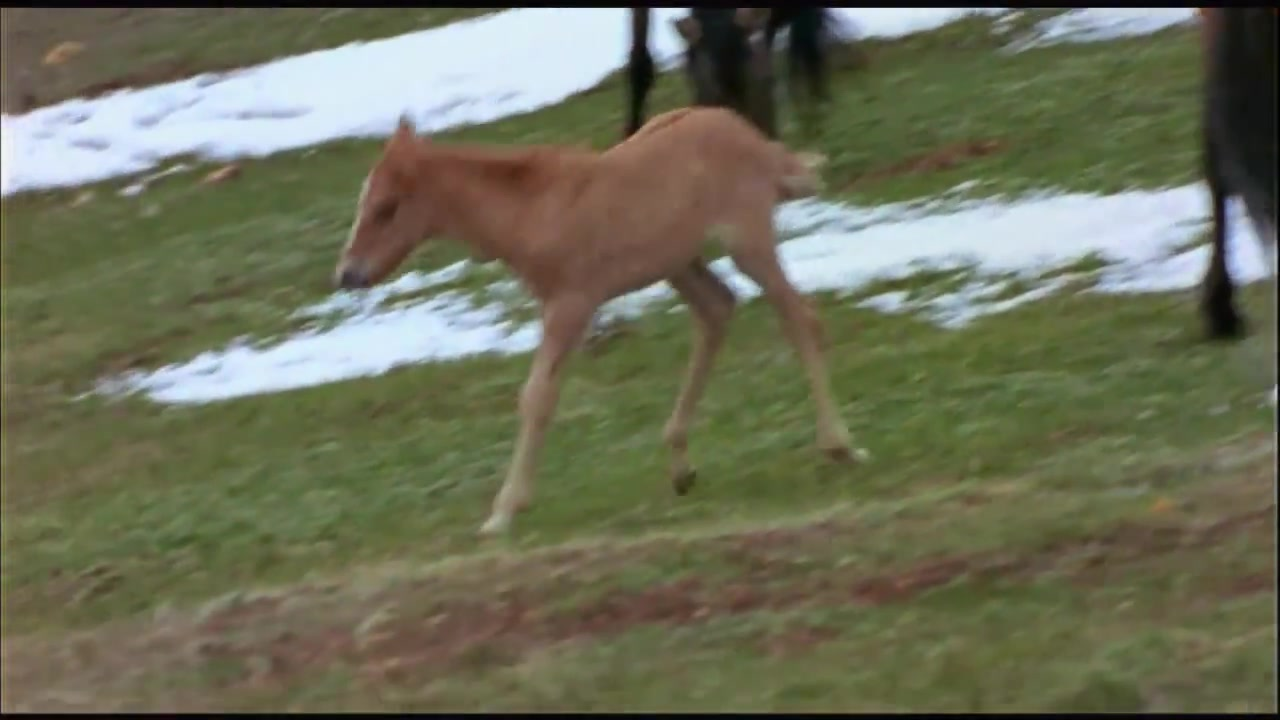horse: (333, 102, 857, 545)
